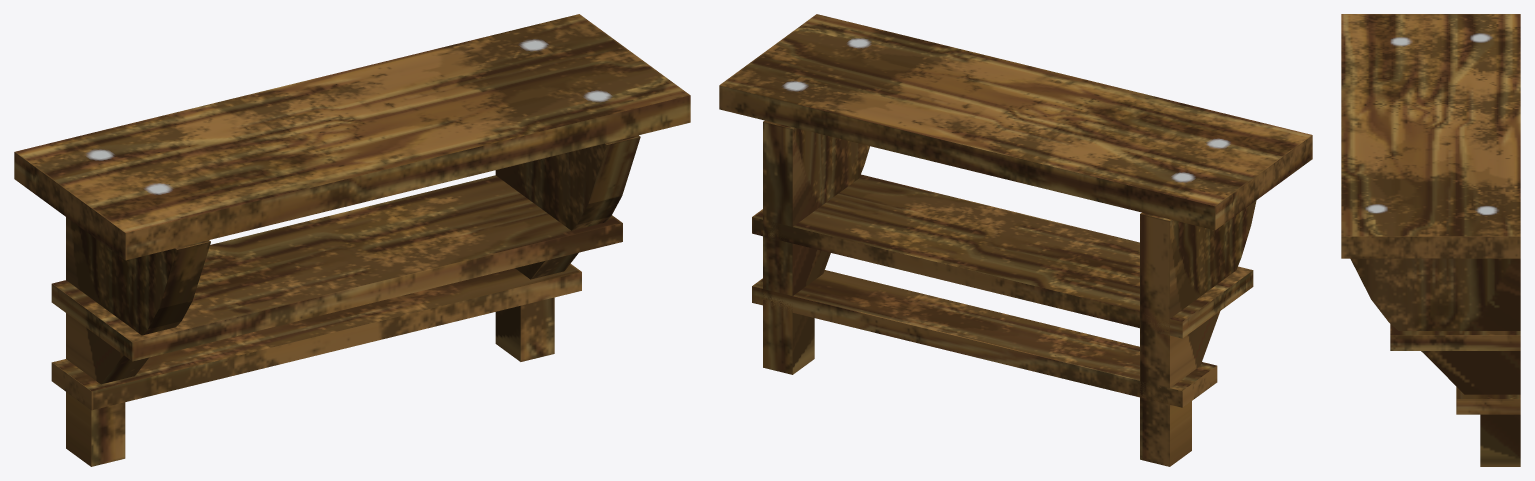
Rendered from shelf - small.fbx.
3 views of the same model, side by side, from view 1: azimuth 30°, elevation 25°; view 2: azimuth 150°, elevation 25°; view 3: azimuth 270°, elevation 25° (orthographic). The views are drawn at different scales.
Visible parts, largest first — view 1: Cube.004; view 2: Cube.004; view 3: Cube.004.
Part boxes in pixels (box(x1,y1,x2,y2)): Cube.004: box(14, 14, 690, 466); Cube.004: box(719, 14, 1312, 466); Cube.004: box(1341, 14, 1520, 466).
Bounding box in the file's own units: 281 × 147 × 95.54.
1 material, 1 textured.
